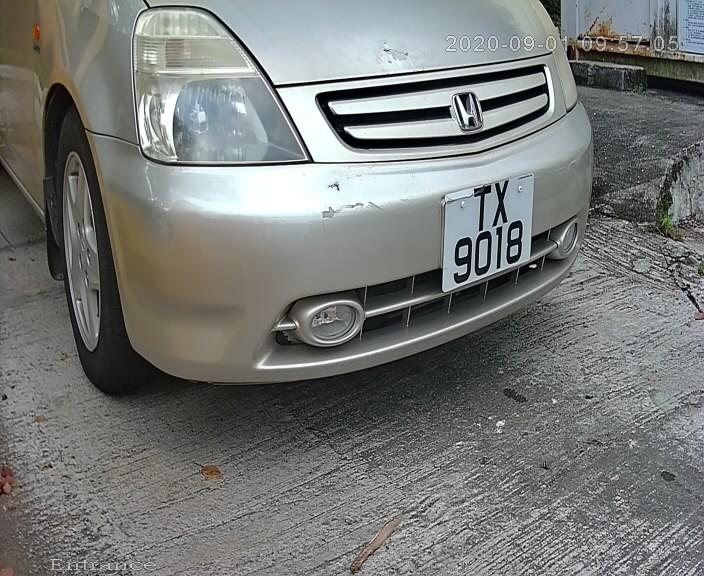License Plate: (437, 163, 538, 301)
